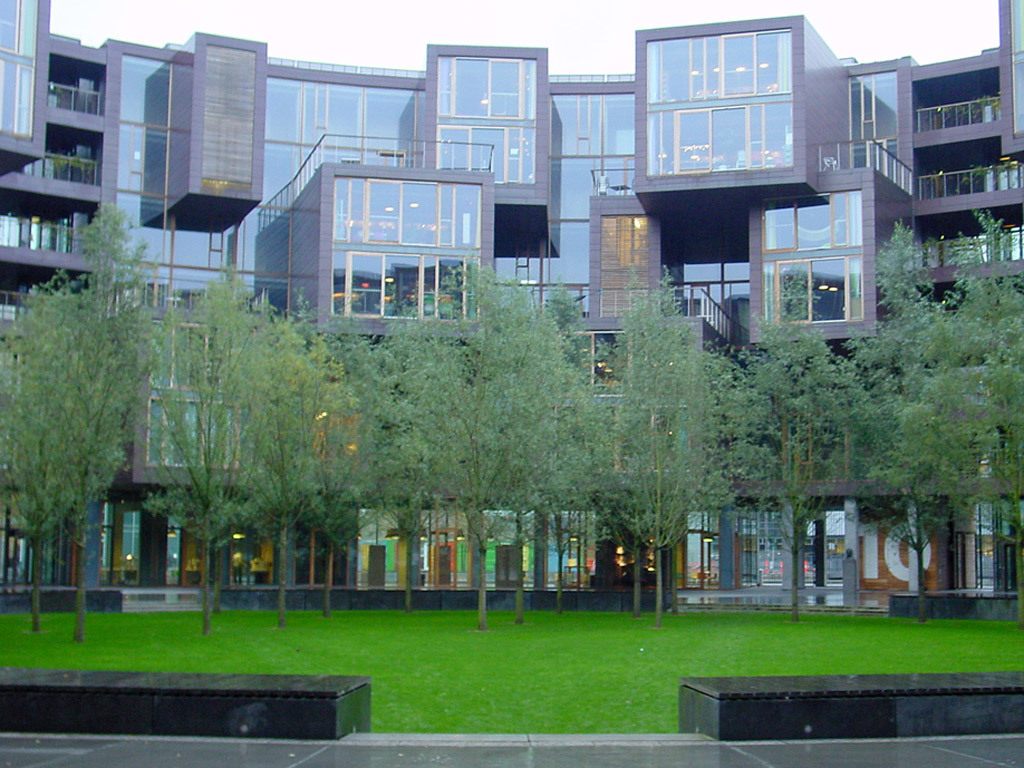Tree: (0, 202, 1023, 642)
